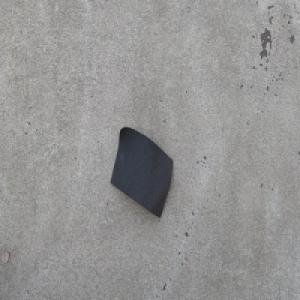PaintChip: (109, 126, 174, 220)
